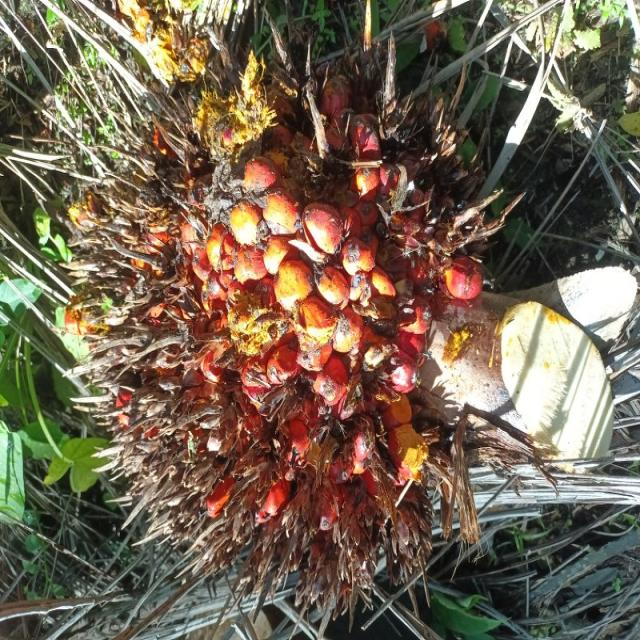fraksi 3: (10, 19, 451, 640)
